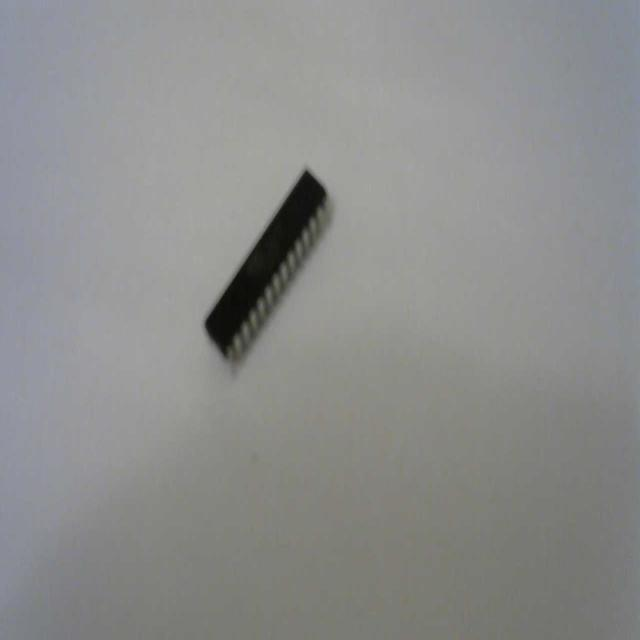atmega: (202, 163, 332, 368)
